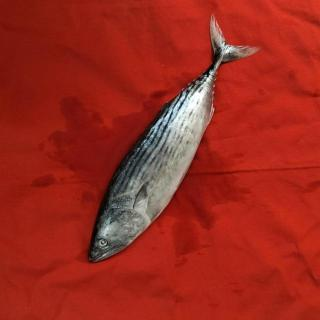Ikan: (85, 15, 251, 283)
